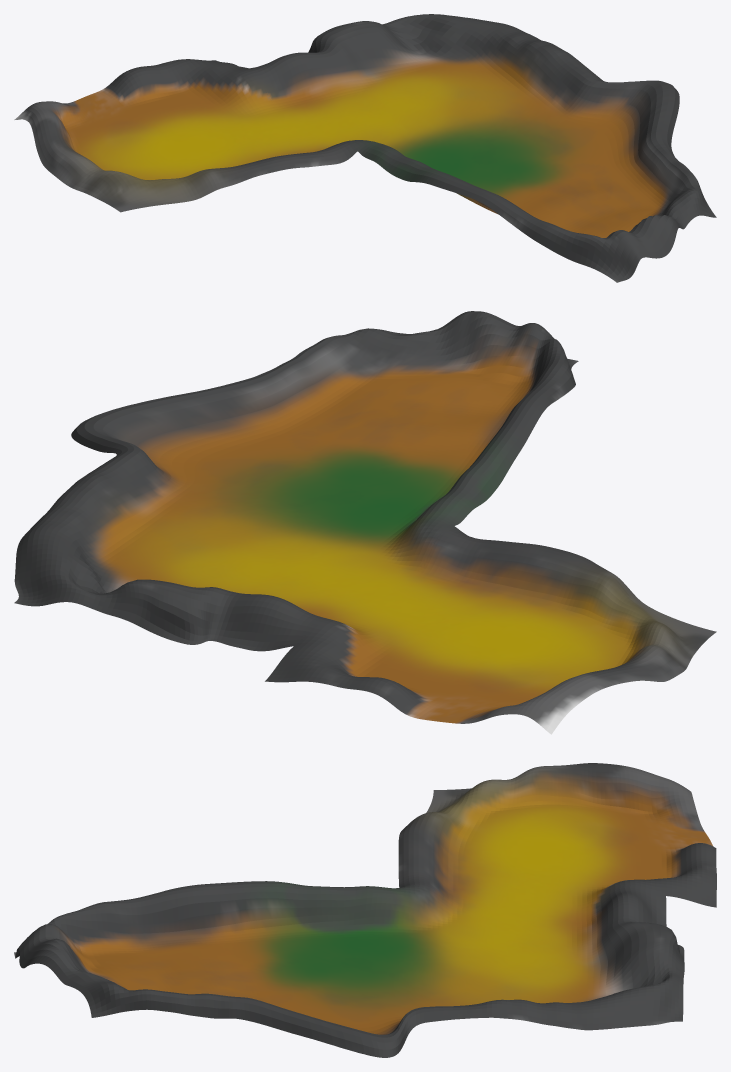
Rendered from themap.fbx.
The picture shows the model from 3 angles, top to bottom: view 1: azimuth 30°, elevation 25°; view 2: azimuth 150°, elevation 25°; view 3: azimuth 270°, elevation 25°; orthographic projection. The views are drawn at different scales.
Parts seen in each view (by area): view 1: Plane.001; view 2: Plane.001; view 3: Plane.001.
Boxes of the visible parts, bbox=[...] form: Plane.001: bbox=[14, 14, 716, 282]; Plane.001: bbox=[14, 311, 716, 734]; Plane.001: bbox=[14, 763, 716, 1057].
Size of the model in its own units: 23935 by 1610 by 24516.
